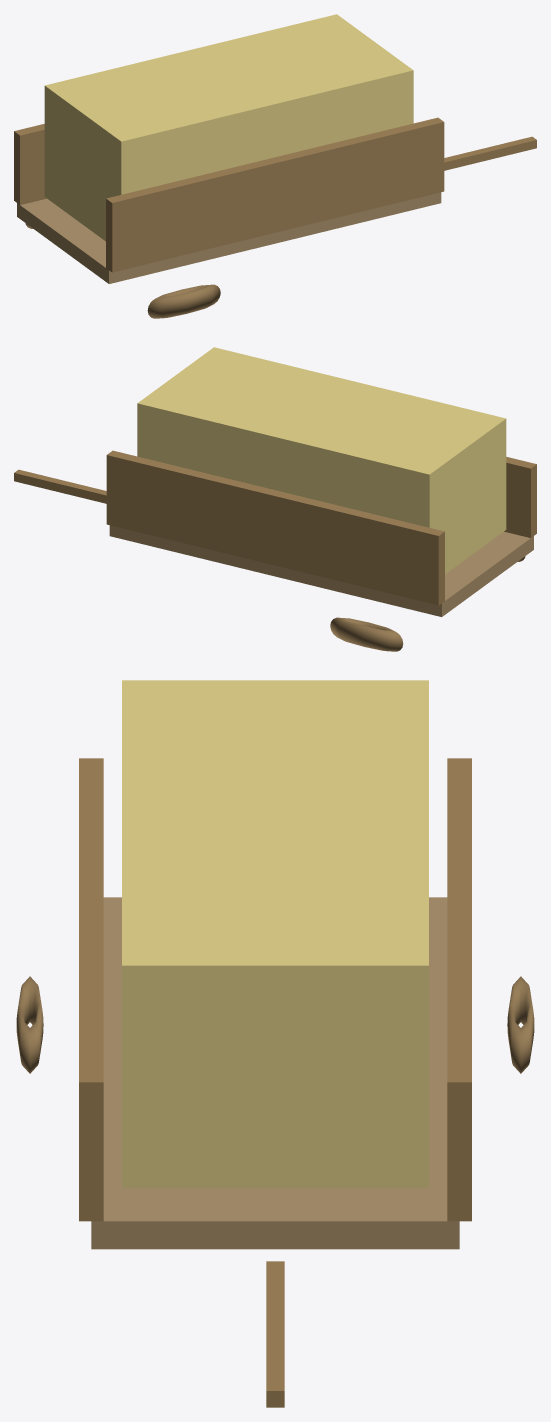
File: env-med-haycart.glb
The picture shows the model from 3 angles, top to bottom: view 1: azimuth 30°, elevation 25°; view 2: azimuth 150°, elevation 25°; view 3: azimuth 270°, elevation 25°; orthographic projection. The views are drawn at different scales.
Size of the model in its own units: 3.55 by 1.18 by 1.69.
